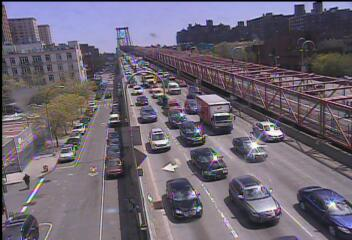neg: (139, 129, 154, 149), (110, 68, 125, 88), (36, 16, 51, 36), (26, 51, 41, 71), (86, 136, 100, 154), (15, 105, 28, 122), (178, 39, 190, 56), (163, 174, 175, 190), (81, 19, 93, 34), (95, 100, 105, 114), (213, 40, 223, 54), (271, 32, 281, 45), (49, 97, 59, 110), (106, 54, 116, 66), (304, 38, 313, 50), (36, 131, 45, 142), (271, 68, 279, 80), (197, 83, 205, 95), (157, 76, 165, 86), (62, 149, 69, 159), (143, 49, 150, 58), (325, 51, 332, 60), (112, 29, 119, 38), (243, 39, 249, 47), (231, 73, 237, 81), (89, 62, 93, 68), (111, 163, 115, 169)
pos: (16, 170, 31, 190)
